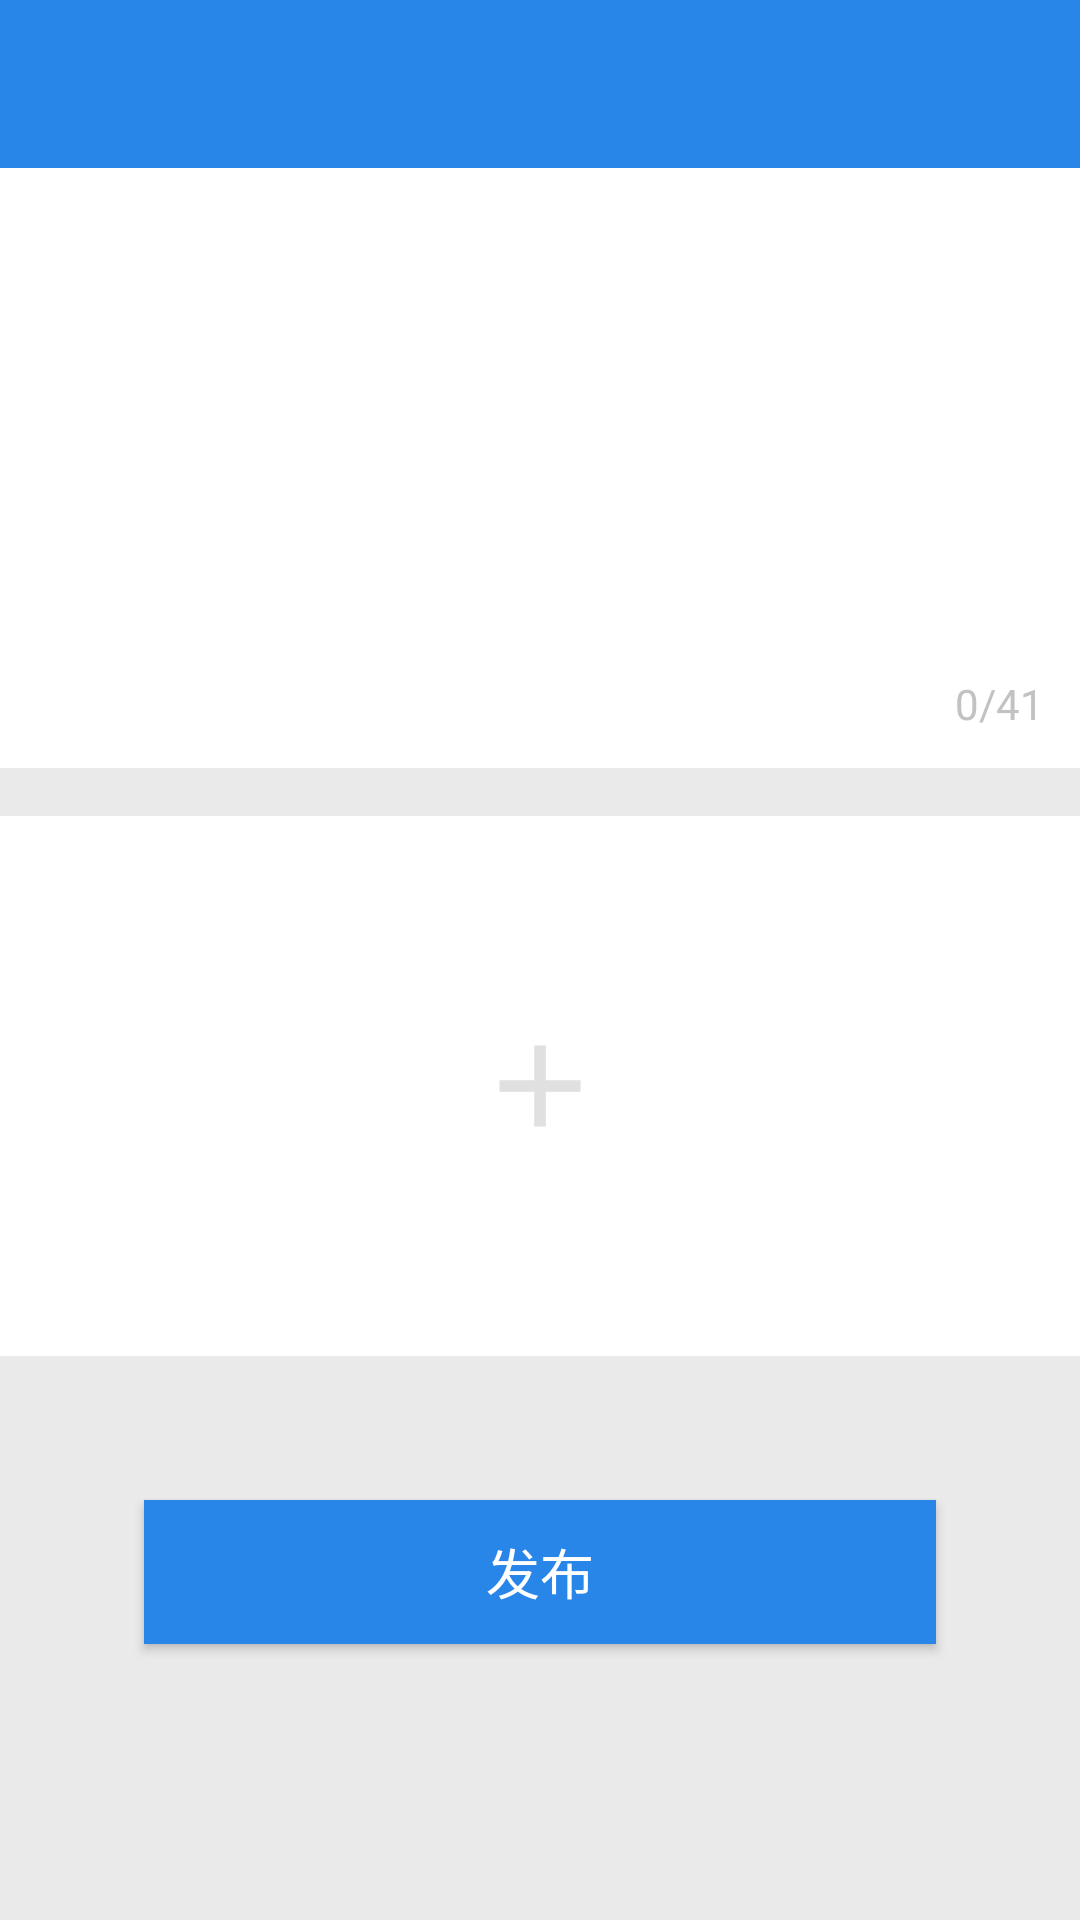

Screen size 1080*1920. Icon name, then its center in pixels as (x=x, y=y):
add: (x=540, y=1086)
